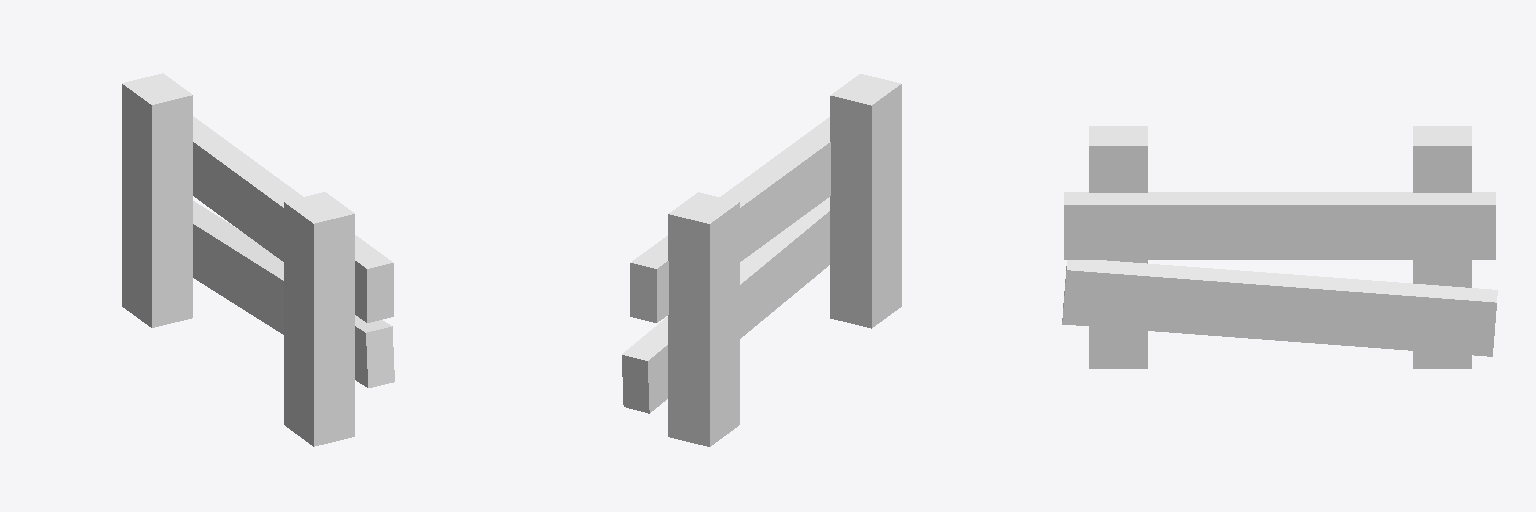
The model's file is Fence_01.obj.
3 views of the same model, side by side, from view 1: azimuth 30°, elevation 25°; view 2: azimuth 150°, elevation 25°; view 3: azimuth 270°, elevation 25° (orthographic).
Parts seen in each view (by area): view 1: Cube_Cube:001.000; view 2: Cube_Cube:001.000; view 3: Cube_Cube:001.000.
Part boxes in pixels (left/top/right/bottom): Cube_Cube:001.000: left=122, top=73, right=394, bottom=446; Cube_Cube:001.000: left=622, top=74, right=901, bottom=446; Cube_Cube:001.000: left=1062, top=126, right=1497, bottom=368.
Size of the model in its own units: 0.1894 by 0.5311 by 0.94.